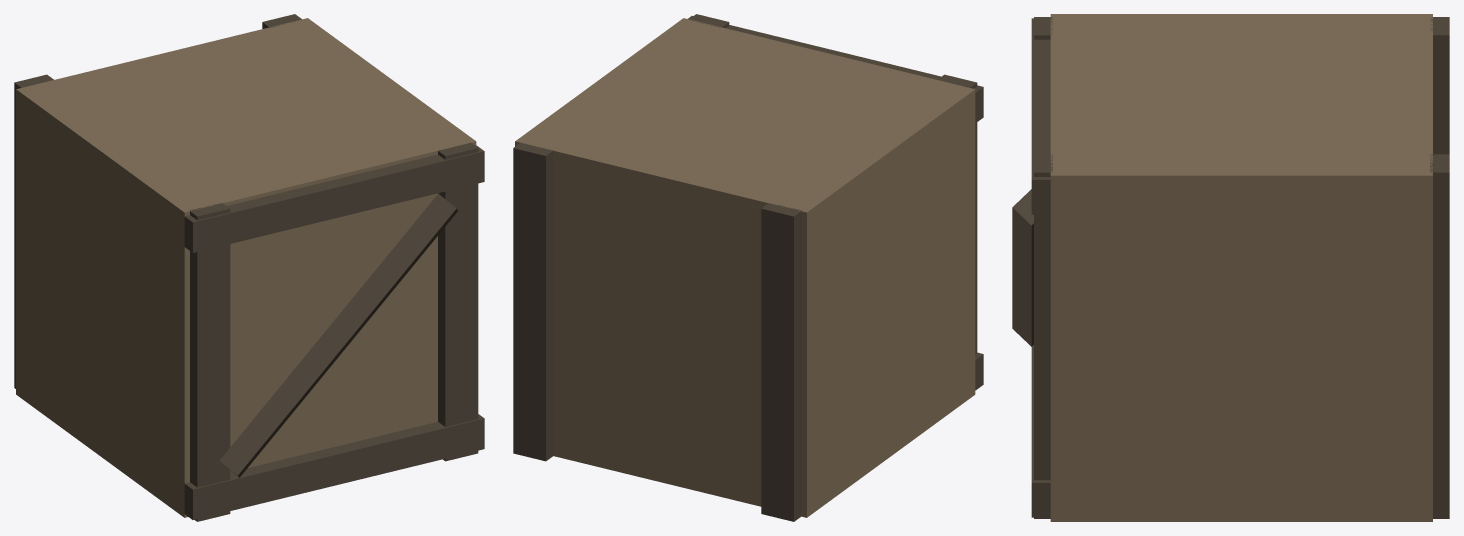
File: PRP_01_Crate.glb
The picture shows the model from 3 angles, left to right: view 1: azimuth 30°, elevation 25°; view 2: azimuth 150°, elevation 25°; view 3: azimuth 270°, elevation 25°; orthographic projection. The views are drawn at different scales.
Visible parts, largest first — view 1: PRP_01_Crate; view 2: PRP_01_Crate; view 3: PRP_01_Crate.
Boxes of the visible parts, bbox=[...] form: PRP_01_Crate: bbox=[14, 14, 484, 521]; PRP_01_Crate: bbox=[513, 14, 983, 521]; PRP_01_Crate: bbox=[1012, 14, 1449, 521].
Bounding box in the file's own units: 0.8 × 0.8 × 0.915.
